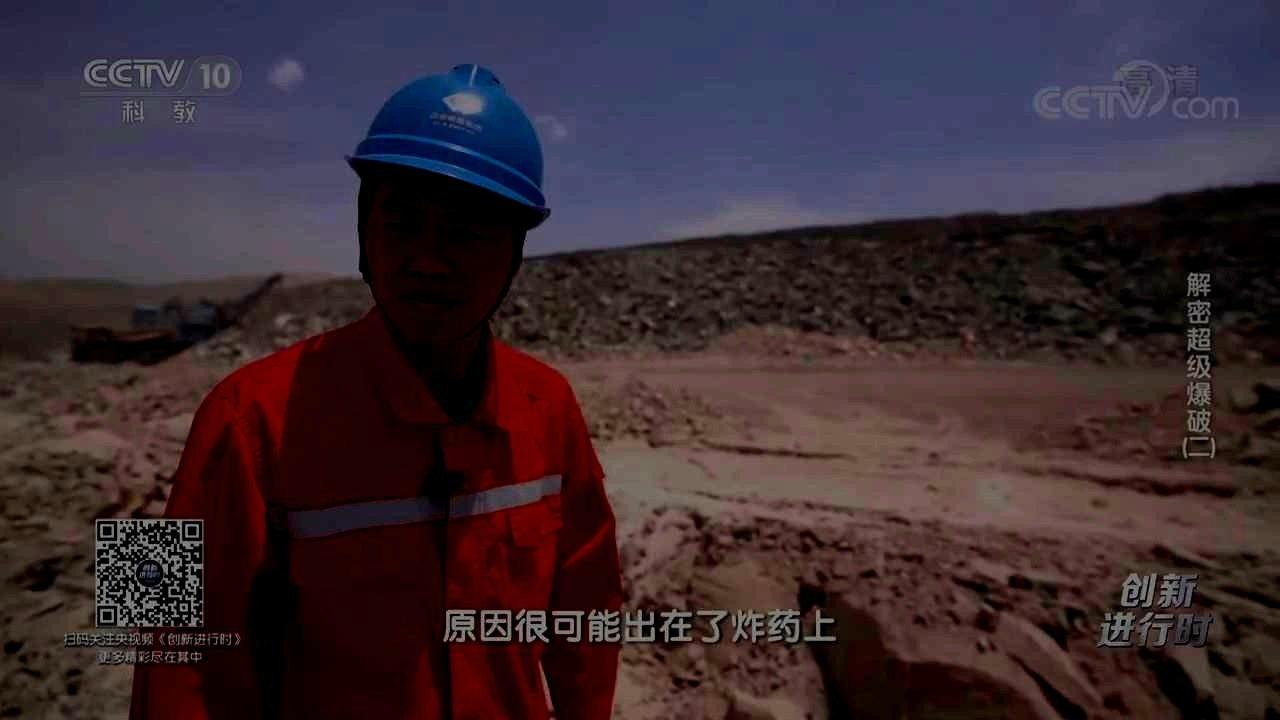helmet: (344, 61, 551, 333)
